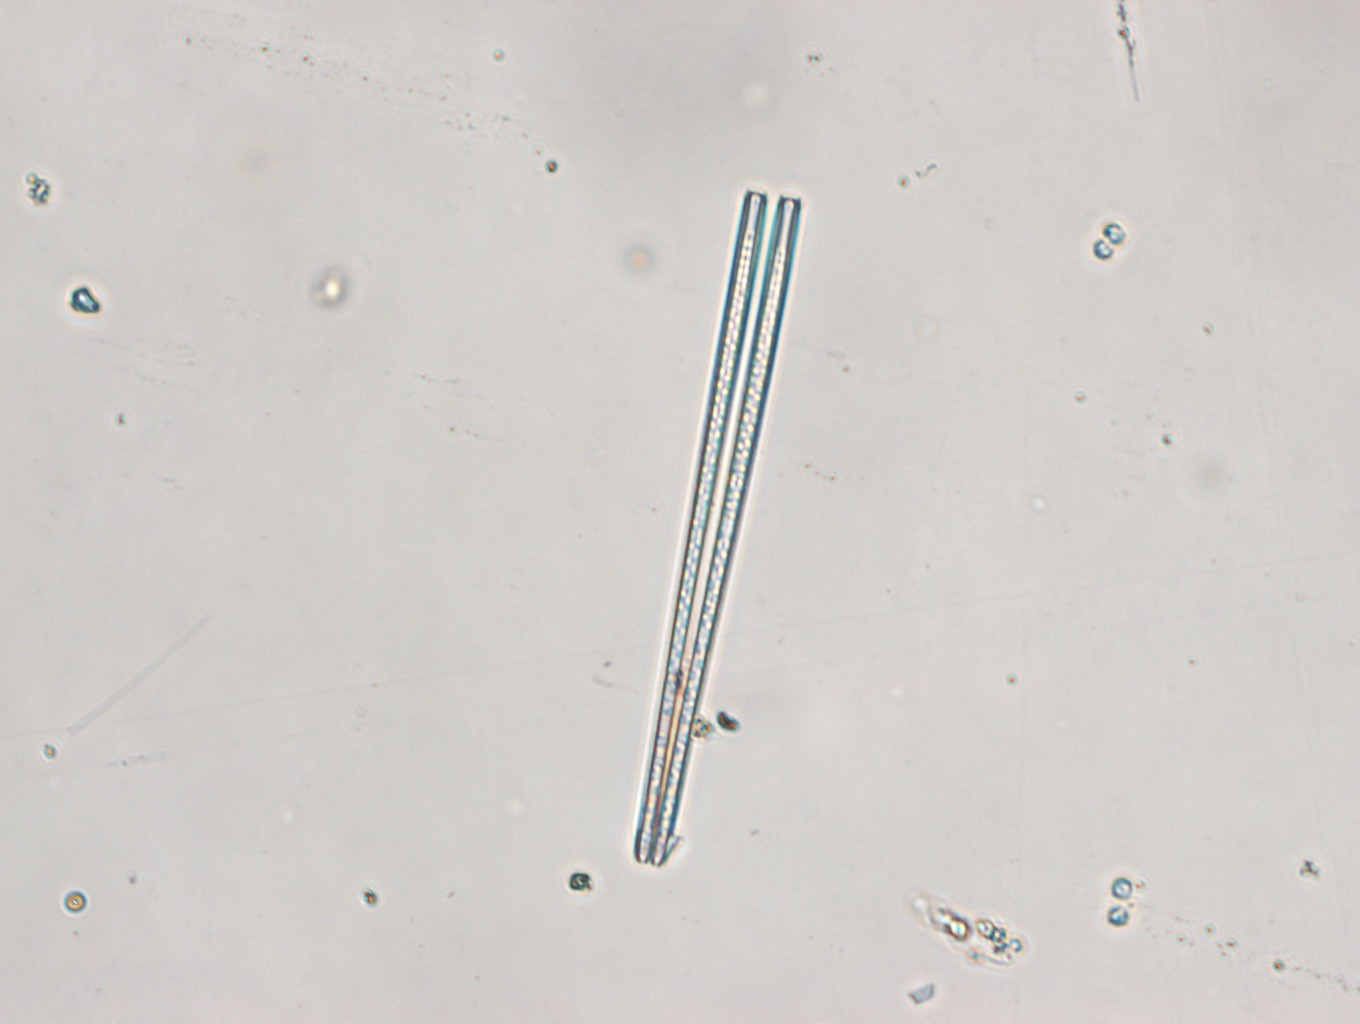thalassionema frauenfeldii: (632, 189, 803, 866)
